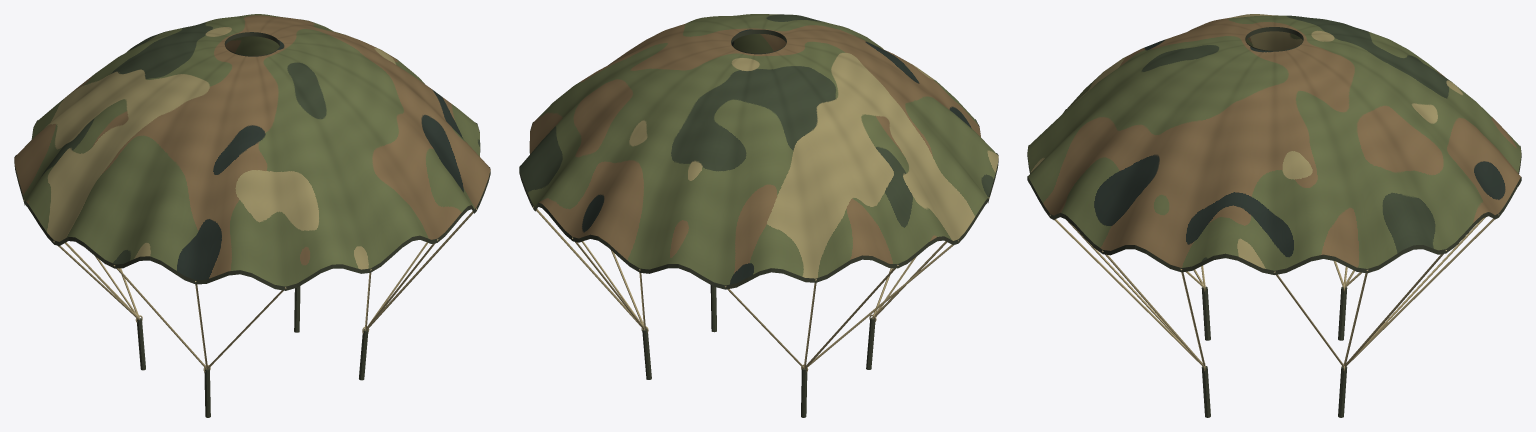
The model's file is SM_SupplyDrop_Parachute.fbx.
The picture shows the model from 3 angles, left to right: view 1: azimuth 30°, elevation 25°; view 2: azimuth 150°, elevation 25°; view 3: azimuth 270°, elevation 25°; orthographic projection. The views are drawn at different scales.
Visible parts, largest first — view 1: SM_SupplyDrop_Parachute; view 2: SM_SupplyDrop_Parachute; view 3: SM_SupplyDrop_Parachute.
Boxes of the visible parts, <box> form: SM_SupplyDrop_Parachute: <box>14,14,490,417</box>; SM_SupplyDrop_Parachute: <box>519,14,998,417</box>; SM_SupplyDrop_Parachute: <box>1027,14,1521,417</box>.
Size of the model in its own units: 3.08 by 3.18 by 2.41.
Materials: 3 (1 with a texture image).
